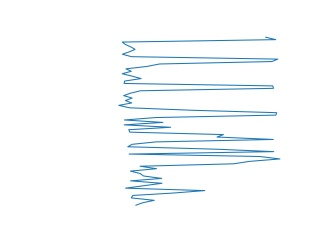crevasseRiverChannelBar: (118, 159, 271, 205)
majorRiverBedLagDeposit: (119, 120, 284, 164)
majorRiverChannelBar: (116, 33, 281, 117)
